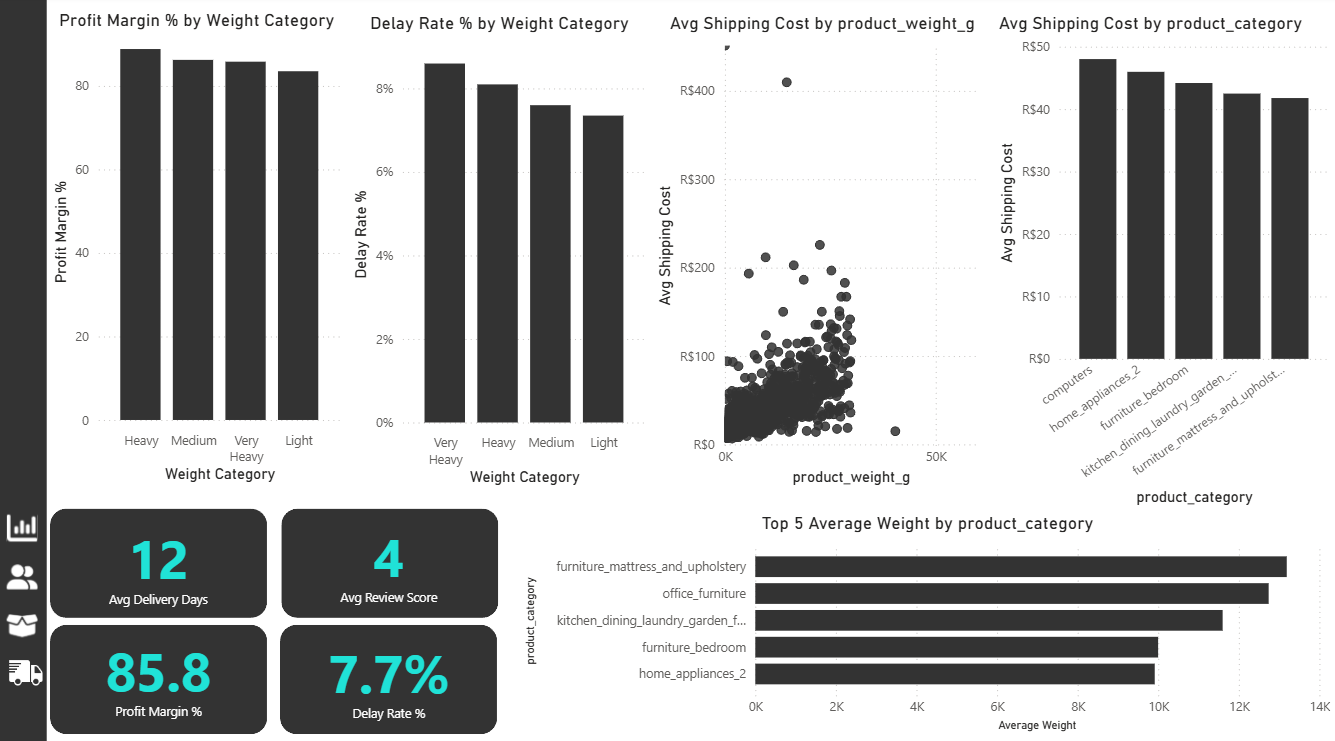

What the dashboard file says about the page in this screenshot:
{"tool":"powerbi","page":{"name":"product & Delivery Analysis","canvas":[1280,720],"ordinal":3},"visuals":[{"type":"shape","box":[270,491.7,208.3,105],"z":0},{"type":"shape","box":[48.3,491.7,208.3,105],"z":1000},{"type":"shape","box":[268.3,603.3,208.3,105],"z":2000},{"type":"shape","box":[0,0,45,720],"z":3000},{"type":"shape","box":[48.3,603.3,208.3,105],"z":4000},{"type":"card","fields":{"Values":["Measures table.Average Delivery Days"]},"box":[48.3,495,208.3,101.7],"z":5000},{"type":"card","fields":{"Values":["Measures table.Delay Rate %"]},"box":[270,603.3,206.7,105],"z":6000},{"type":"card","fields":{"Values":["Measures table.Average Review Score"]},"box":[270,491.7,206.7,105],"z":7000},{"type":"card","fields":{"Values":["Measures table.Profit Margin %"]},"box":[48.3,603.3,208.3,101.7],"z":8000},{"type":"actionButton","box":[2.5,491.2,45,37.5],"z":9000},{"type":"actionButton","box":[2,585,45.6,37.8],"z":10000},{"type":"actionButton","box":[2,538,45.6,37.8],"z":11000},{"type":"image","box":[2,632,45,32.5],"z":12000},{"type":"scatterChart","fields":{"X":["gold dim_products.product_weight_g"],"Y":["Measures table.Avg Shipping Cost"]},"box":[625,15,328.3,458.3],"z":13000},{"type":"columnChart","fields":{"Category":["gold dim_products.product_category"],"Y":["Measures table.Avg Shipping Cost"]},"box":[953.3,15,326.7,478.3],"z":14000},{"type":"clusteredBarChart","title":"Top 5 Average Weight by product_category","fields":{"Category":["gold dim_products.product_category"],"Y":["Measures table.Average Weight"]},"box":[498.3,495,781.7,215],"z":15000},{"type":"clusteredColumnChart","fields":{"Category":["gold dim_products.Weight Category"],"Y":["Measures table.Delay Rate %"]},"box":[333.3,15,291.7,458.3],"z":16000},{"type":"clusteredColumnChart","fields":{"Category":["gold dim_products.Weight Category"],"Y":["Measures table.Profit Margin %"]},"box":[45,13.3,286.7,458.3],"z":17000}]}

Visuals, with their boxes on the page's 1280x720 design canvas (x1, y1, x2, y2). These are canvas units, not pixel positions in the 1335x741 screenshot, which may show the page scaled, cropped or inside an application window:
shape: 270/492/478/597
shape: 48/492/257/597
shape: 268/603/477/708
shape: 0/0/45/720
shape: 48/603/257/708
card - Measures table.Average Delivery Days: 48/495/257/597
card - Measures table.Delay Rate %: 270/603/477/708
card - Measures table.Average Review Score: 270/492/477/597
card - Measures table.Profit Margin %: 48/603/257/705
actionButton: 2/491/48/529
actionButton: 2/585/48/623
actionButton: 2/538/48/576
image: 2/632/47/664
scatterChart - gold dim_products.product_weight_g x Measures table.Avg Shipping Cost: 625/15/953/473
columnChart - gold dim_products.product_category x Measures table.Avg Shipping Cost: 953/15/1280/493
"Top 5 Average Weight by product_category" clusteredBarChart: 498/495/1280/710
clusteredColumnChart - gold dim_products.Weight Category x Measures table.Delay Rate %: 333/15/625/473
clusteredColumnChart - gold dim_products.Weight Category x Measures table.Profit Margin %: 45/13/332/472
